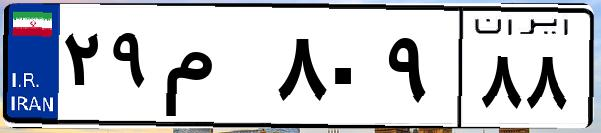0: (330, 28, 385, 110)
2: (57, 26, 110, 100)
8: (270, 28, 330, 110), (475, 38, 525, 113), (525, 38, 570, 115)
9: (385, 28, 445, 110), (110, 28, 158, 98)
م: (158, 20, 270, 120)
